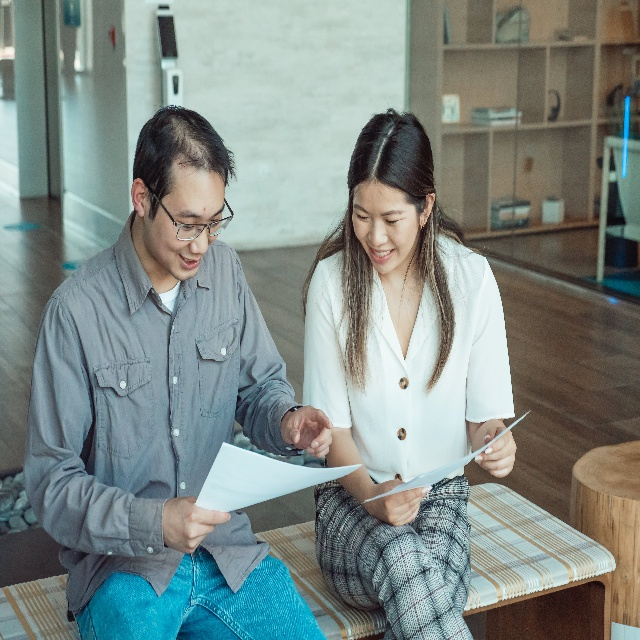Gafas: (145, 183, 234, 242)
Sin_guantes: (162, 495, 231, 555), (367, 479, 432, 526), (281, 404, 334, 459), (474, 426, 517, 478)
